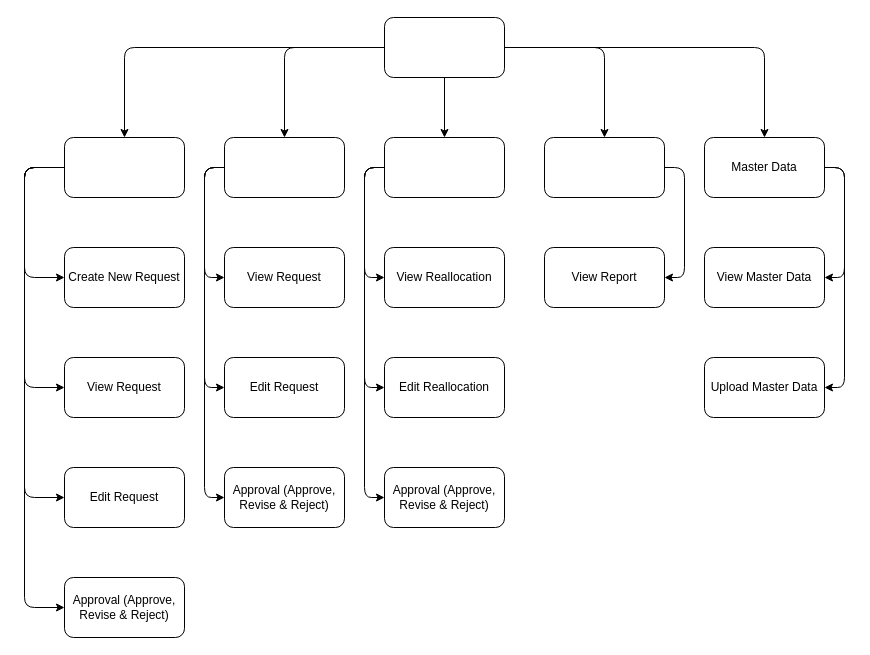
The diagram is 870 pixels wide and 655 high, and some of its shapes have lost their labels. Each missing label, with the centre of its shape:
Dashboard: the point at 124,167
Login: the point at 444,47
Need Approval: the point at 284,167
Reallocation Budget: the point at 444,167
Report: the point at 604,167
